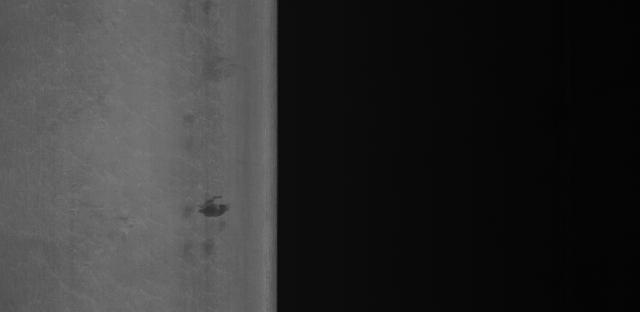oil_spot: (192, 191, 233, 228)
